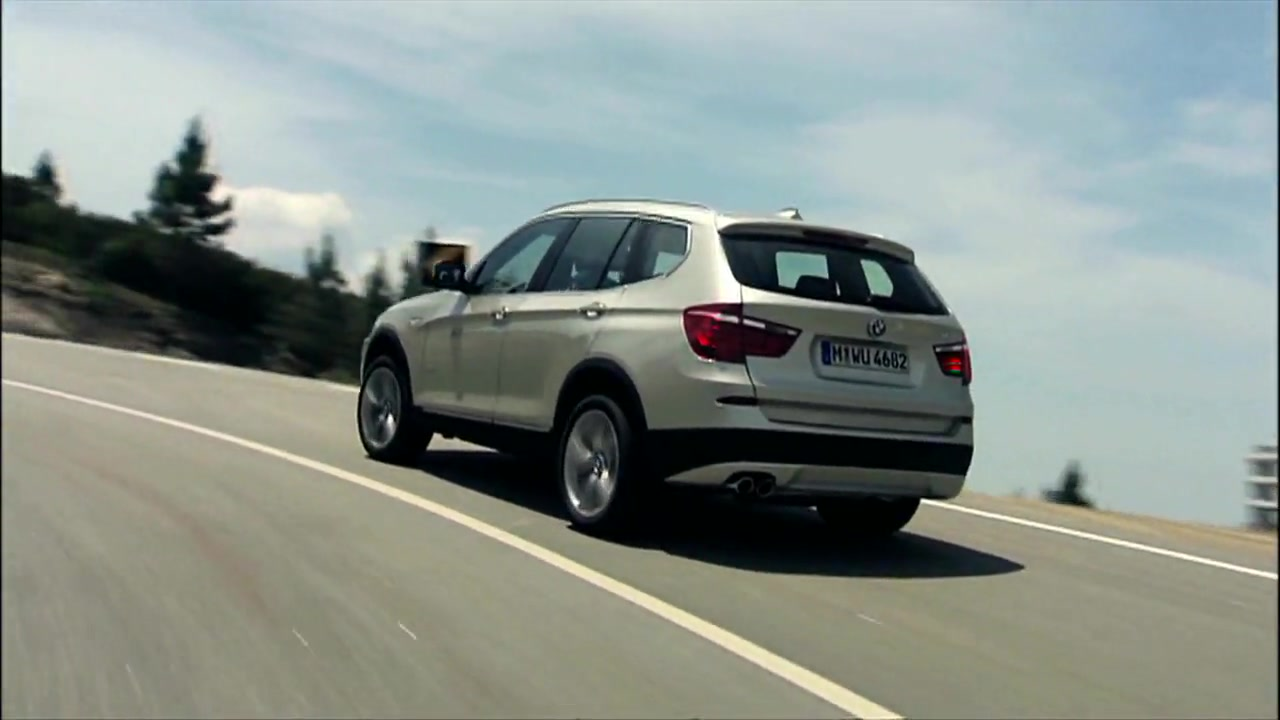car: (355, 201, 973, 540)
